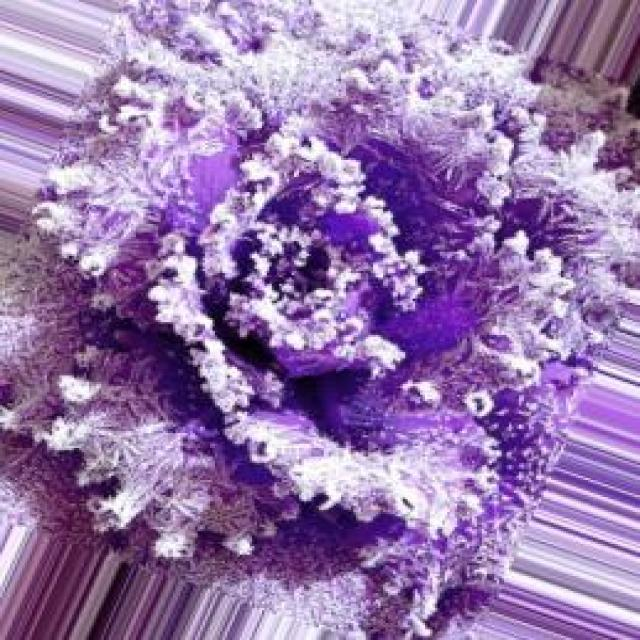Healthy: (38, 1, 640, 640)
